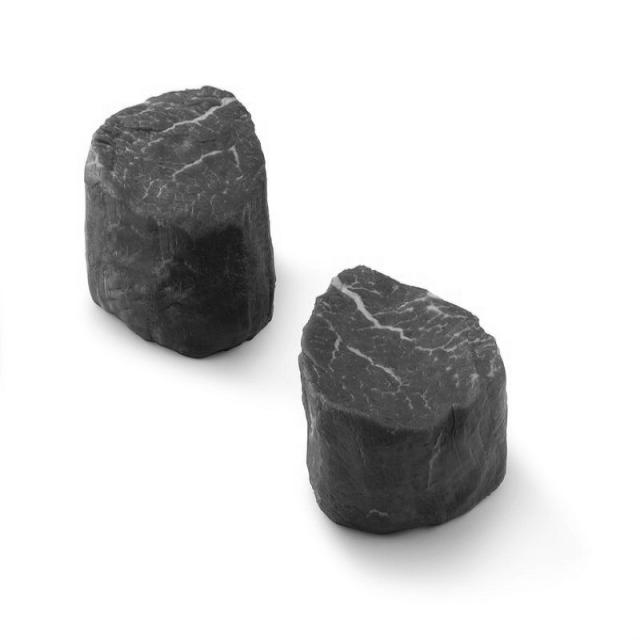than bit tet: (296, 261, 514, 538), (82, 86, 276, 356)
